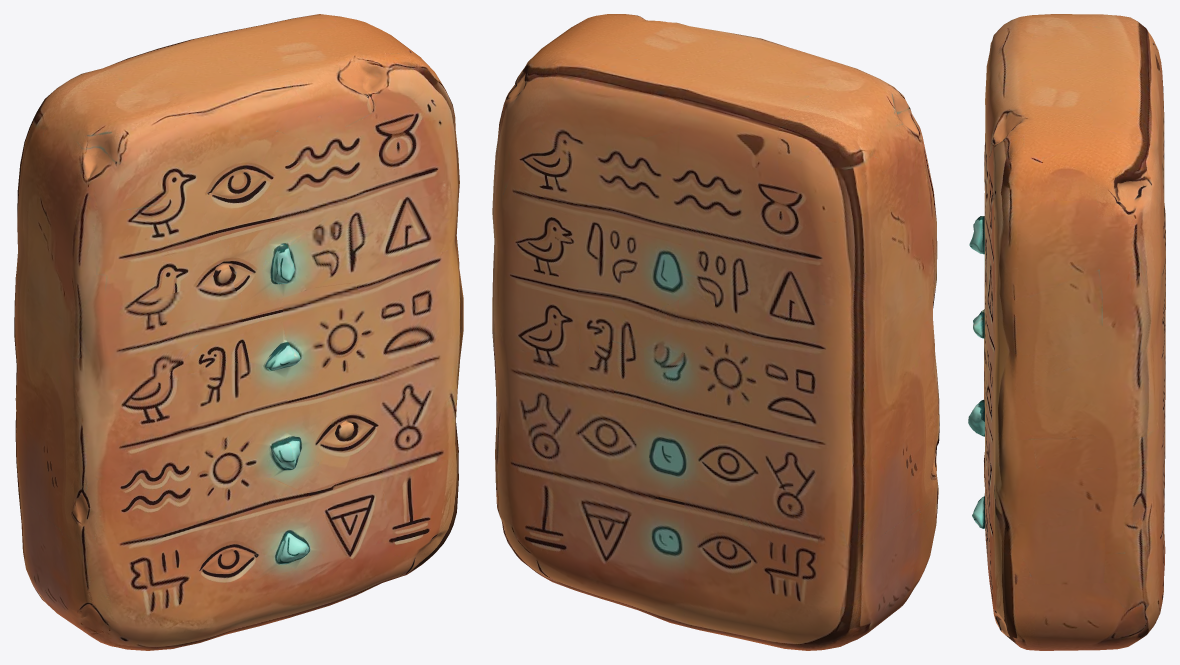
File: tablet.glb
The picture shows the model from 3 angles, left to right: view 1: azimuth 30°, elevation 25°; view 2: azimuth 150°, elevation 25°; view 3: azimuth 270°, elevation 25°; orthographic projection. The views are drawn at different scales.
Size of the model in its own units: 0.7352 by 1 by 0.3422.
Materials: 1 (1 with a texture image).
